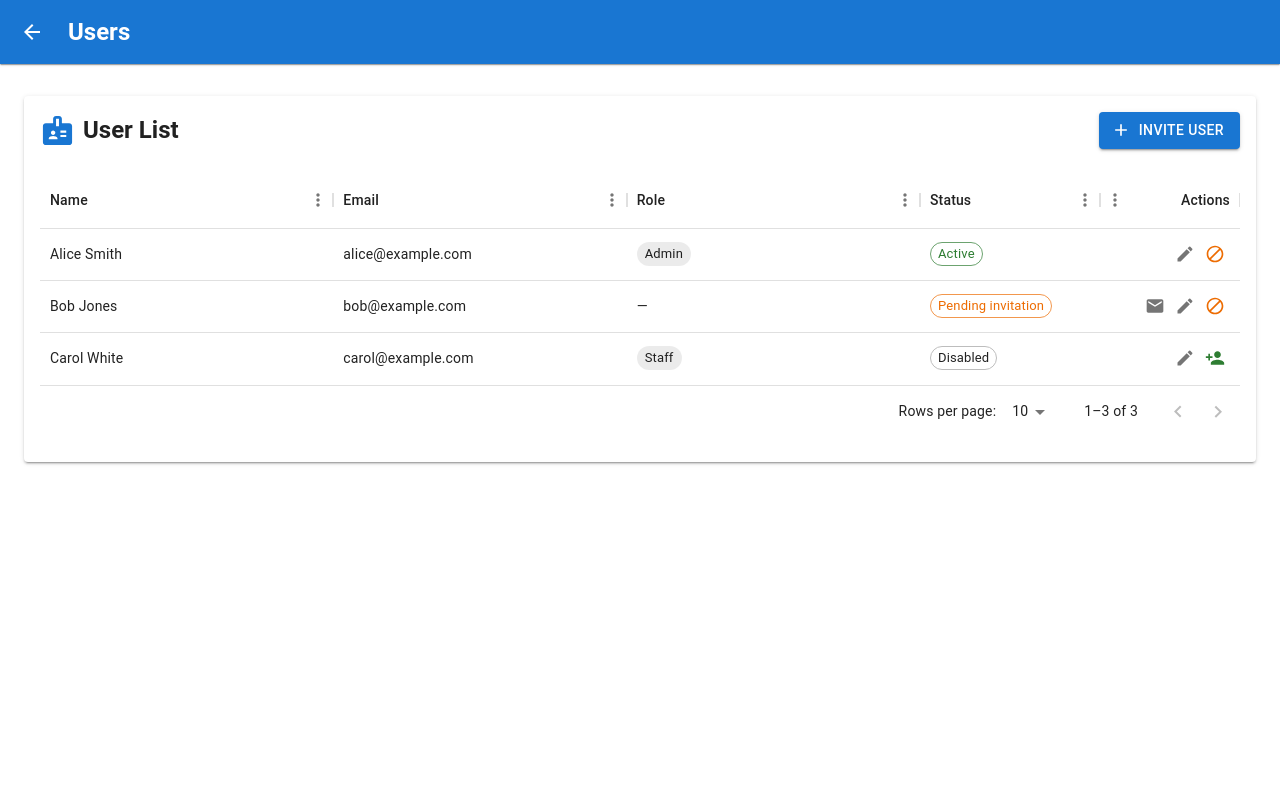
it: UsersPage › Invite User Dialog › opens invite dialog when Invite User button is clicked
Expected: the table is shown, [40,172,1240,438]
Click the button "Invite User" at (1169, 130), box [1099,112,1240,148]
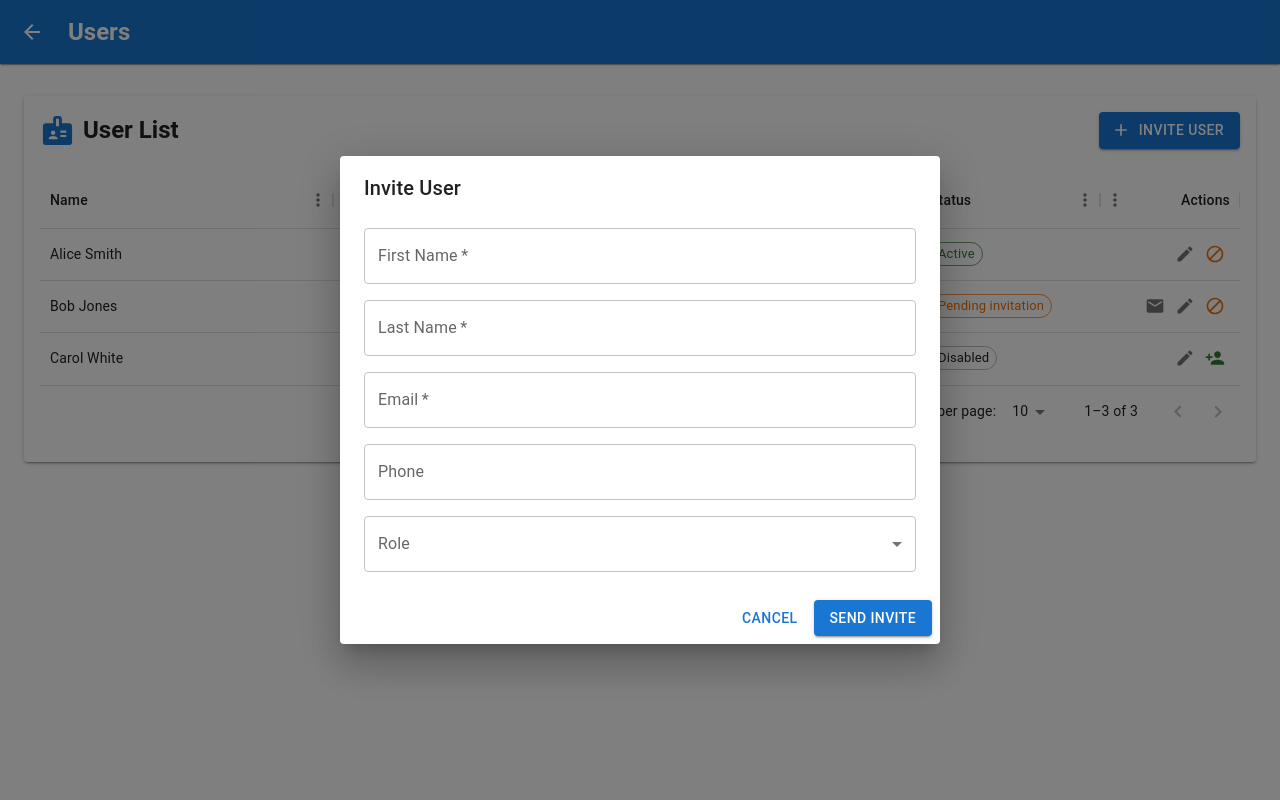
Expected: the dialog is shown, [340,156,940,644]
Expected: the heading "Invite User" is shown, [364,176,461,200]
